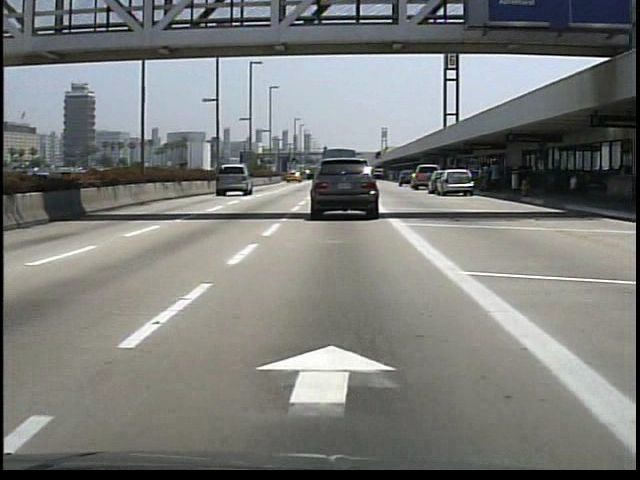person: (487, 157, 505, 195), (476, 162, 490, 195)
